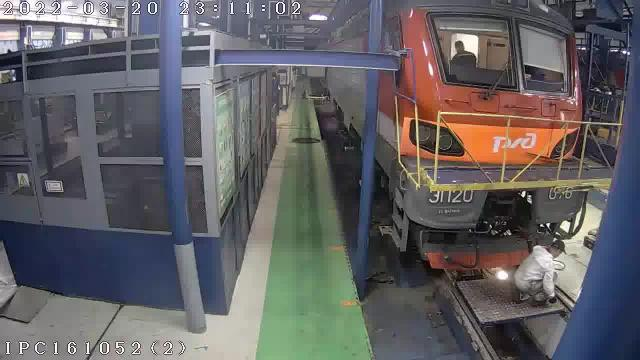person: (514, 240, 564, 304), (450, 41, 476, 67)
train: (376, 0, 585, 269)
